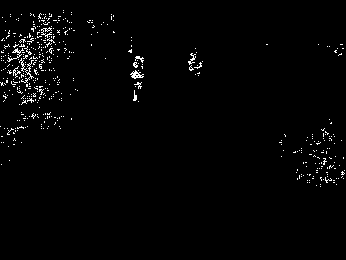person: (130, 53, 146, 103)
